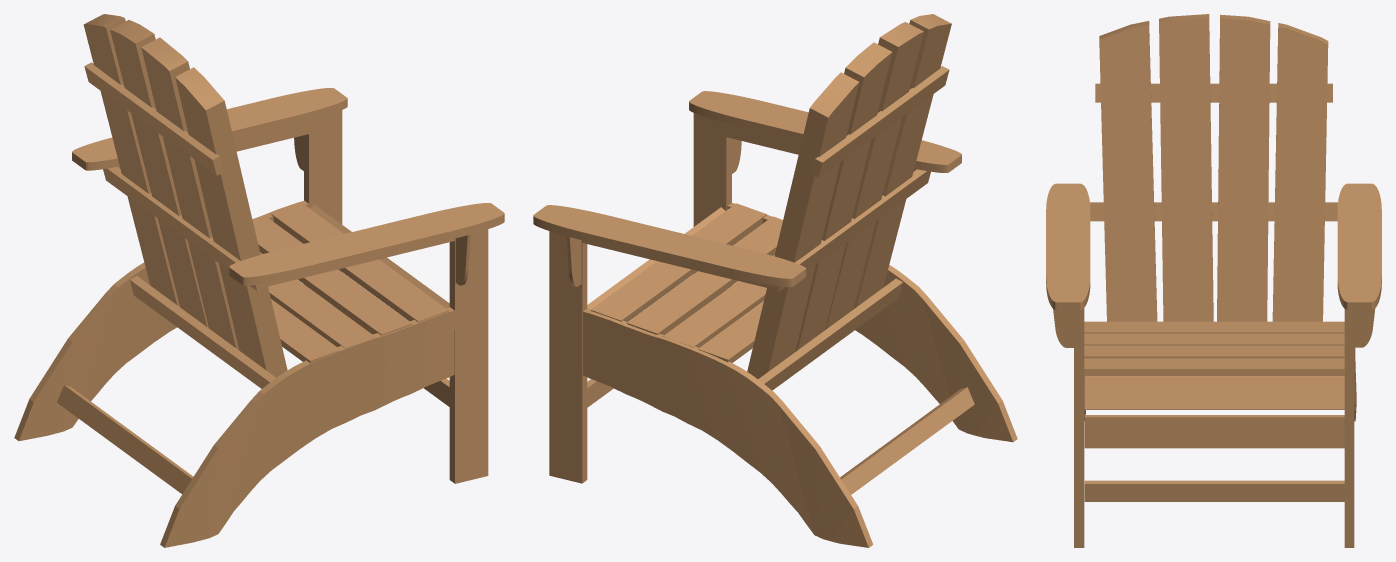
The model's file is lawnchair.fbx.
3 views of the same model, side by side, from view 1: azimuth 30°, elevation 25°; view 2: azimuth 150°, elevation 25°; view 3: azimuth 270°, elevation 25° (orthographic). The views are drawn at different scales.
Visible parts, largest first — view 1: Cube.007; view 2: Cube.007; view 3: Cube.007.
Part boxes in pixels (<box>): Cube.007: <box>14,14,504,547</box>; Cube.007: <box>533,14,1017,547</box>; Cube.007: <box>1046,14,1381,547</box>.
Size of the model in its own units: 997 by 1294 by 949.
